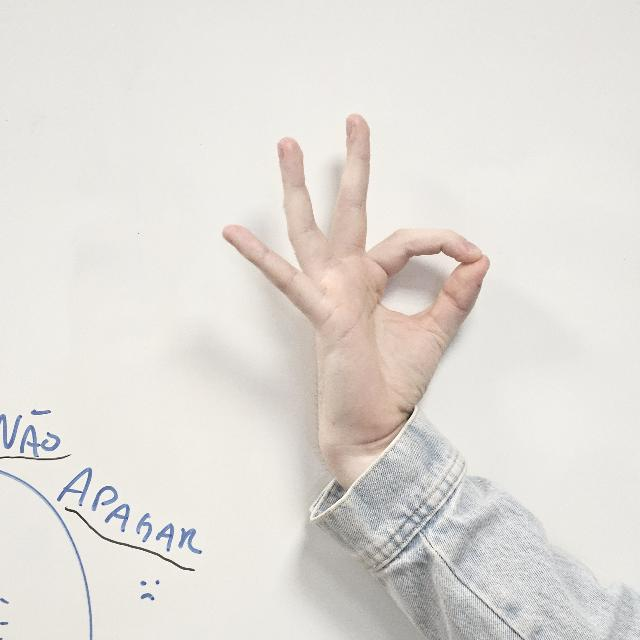Bolinha: (215, 104, 521, 490)
